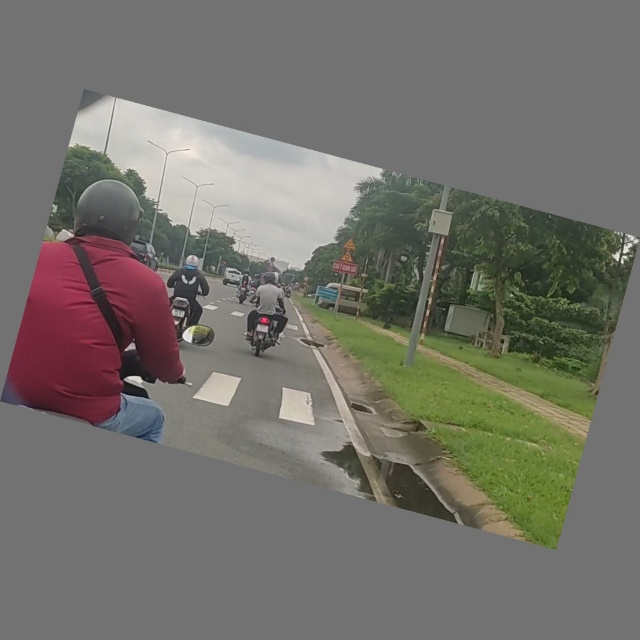P.130: (269, 257, 277, 264)
W.245a: (342, 236, 359, 253)
W.246a: (340, 251, 356, 265)
